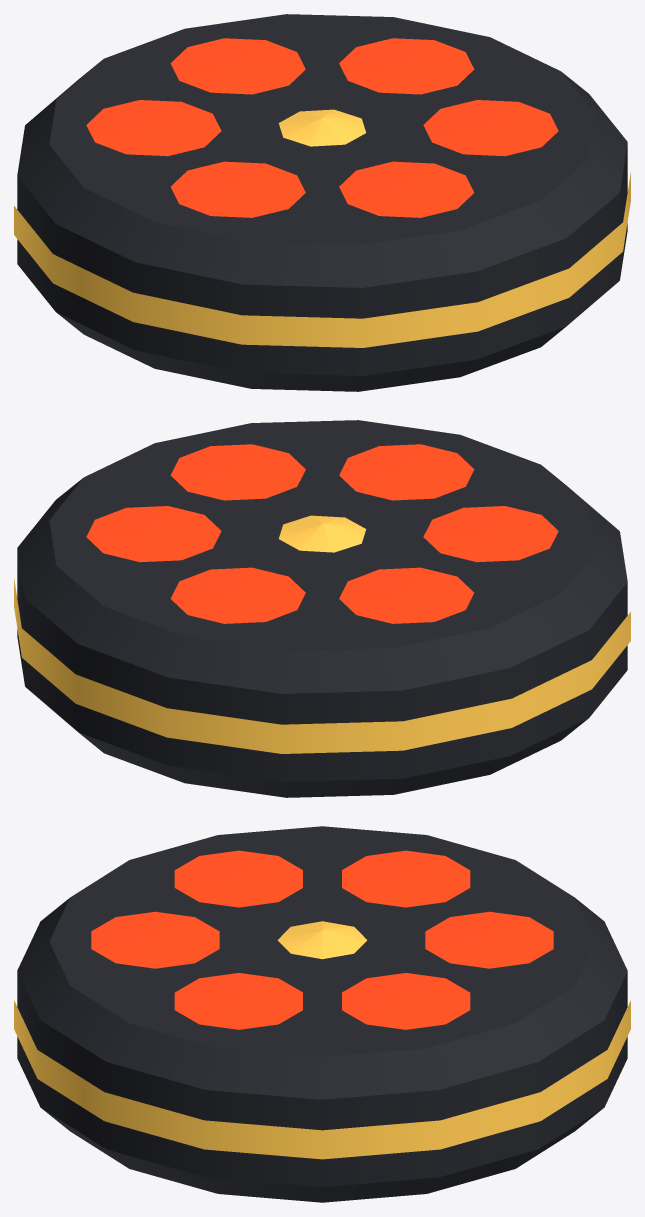
The model's file is tb_chambers_6.glb.
The picture shows the model from 3 angles, top to bottom: view 1: azimuth 30°, elevation 25°; view 2: azimuth 150°, elevation 25°; view 3: azimuth 270°, elevation 25°; orthographic projection.
Visible parts, largest first — view 1: tb_chambers_6; view 2: tb_chambers_6; view 3: tb_chambers_6.
Part boxes in pixels (left/top/right/bottom): tb_chambers_6: left=14, top=14, right=630, bottom=391; tb_chambers_6: left=14, top=420, right=630, bottom=797; tb_chambers_6: left=14, top=826, right=630, bottom=1202.
Size of the model in its own units: 0.192 by 0.054 by 0.192.
